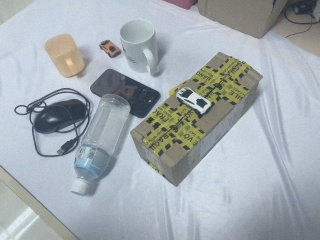bottle: (71, 94, 132, 196)
box: (131, 49, 261, 189), (196, 1, 297, 39)
cup: (119, 17, 163, 76), (44, 33, 89, 79)
mouse: (33, 98, 87, 135)
phone: (89, 69, 162, 120)
toy_car: (174, 87, 213, 117), (100, 39, 122, 58)
